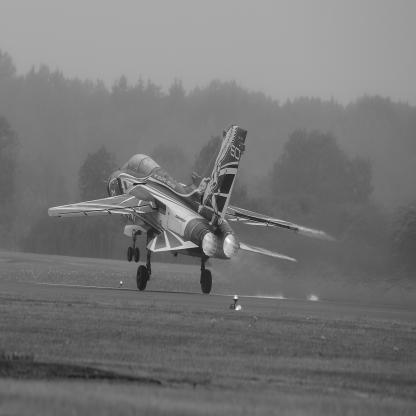Tornado: (48, 125, 338, 295)
